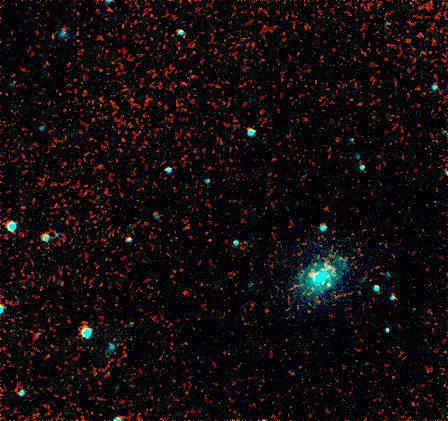star: (314, 270, 344, 300)
